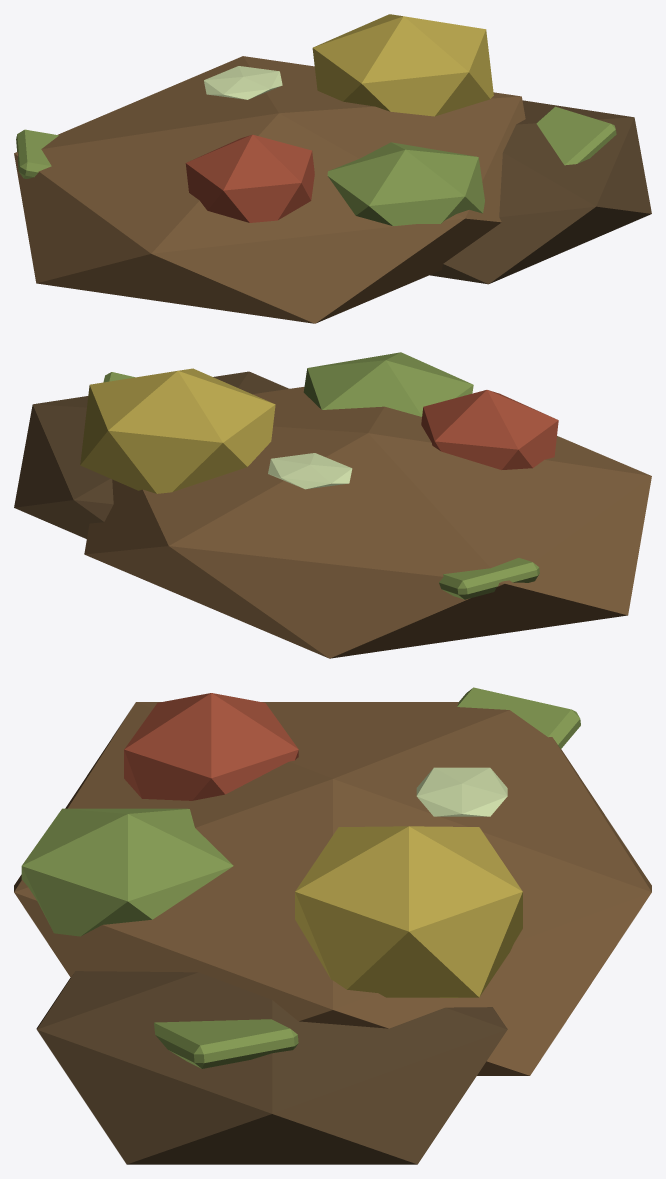
The model's file is RottenProducePile_Small.glb.
3 views of the same model, one above another, from view 1: azimuth 30°, elevation 25°; view 2: azimuth 150°, elevation 25°; view 3: azimuth 270°, elevation 25° (orthographic). The views are drawn at different scales.
Parts seen in each view (by area): view 1: CompostMoundA, CompostMoundB, RottenPumpkin, RottenCabbage, RottenTomato, WiltedLeafB, MoldPatch, WiltedLeafA; view 2: CompostMoundA, RottenPumpkin, CompostMoundB, RottenTomato, RottenCabbage, WiltedLeafA, MoldPatch; view 3: CompostMoundA, CompostMoundB, RottenPumpkin, RottenCabbage, RottenTomato, WiltedLeafB, MoldPatch, WiltedLeafA.
Boxes of the visible parts, x1=… form: CompostMoundA: x1=14, y1=56, x2=525, y2=323; CompostMoundB: x1=430, y1=100, x2=651, y2=284; RottenPumpkin: x1=312, y1=14, x2=493, y2=116; RottenCabbage: x1=327, y1=142, x2=484, y2=226; RottenTomato: x1=185, y1=134, x2=314, y2=222; WiltedLeafB: x1=536, y1=106, x2=616, y2=165; MoldPatch: x1=204, y1=66, x2=282, y2=99; WiltedLeafA: x1=16, y1=129, x2=58, y2=178; CompostMoundA: x1=84, y1=386, x2=651, y2=658; RottenPumpkin: x1=80, y1=368, x2=275, y2=493; CompostMoundB: x1=14, y1=371, x2=289, y2=538; RottenTomato: x1=421, y1=390, x2=558, y2=469; RottenCabbage: x1=303, y1=352, x2=473, y2=416; WiltedLeafA: x1=439, y1=558, x2=539, y2=599; MoldPatch: x1=268, y1=453, x2=352, y2=489; CompostMoundA: x1=14, y1=702, x2=651, y2=1075; CompostMoundB: x1=36, y1=971, x2=507, y2=1164; RottenPumpkin: x1=295, y1=826, x2=522, y2=997; RottenCabbage: x1=21, y1=808, x2=233, y2=936; RottenTomato: x1=124, y1=693, x2=298, y2=800; WiltedLeafB: x1=154, y1=1019, x2=298, y2=1068; MoldPatch: x1=416, y1=767, x2=507, y2=816; WiltedLeafA: x1=457, y1=687, x2=580, y2=748.
Size of the model in its own units: 0.693 by 0.2228 by 0.462.
